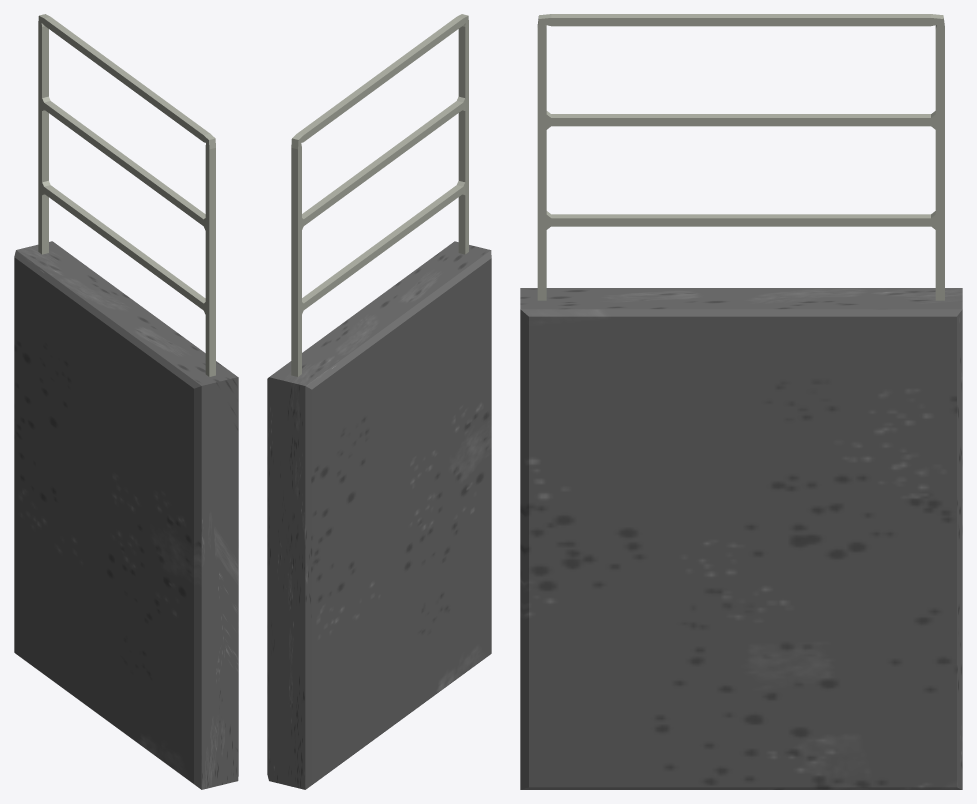
The model's file is Pig_Fence_Short 1.fbx.
The picture shows the model from 3 angles, left to right: view 1: azimuth 30°, elevation 25°; view 2: azimuth 150°, elevation 25°; view 3: azimuth 270°, elevation 25°; orthographic projection. The views are drawn at different scales.
Visible parts, largest first — view 1: Pig_Fence2.0_Short; view 2: Pig_Fence2.0_Short; view 3: Pig_Fence2.0_Short.
Boxes of the visible parts, <box> form: Pig_Fence2.0_Short: <box>14,14,238,789</box>; Pig_Fence2.0_Short: <box>267,14,491,789</box>; Pig_Fence2.0_Short: <box>520,14,962,789</box>.
Bounding box in the file's own units: 13.89 × 191 × 100.
Materials: 2 (2 with a texture image).
